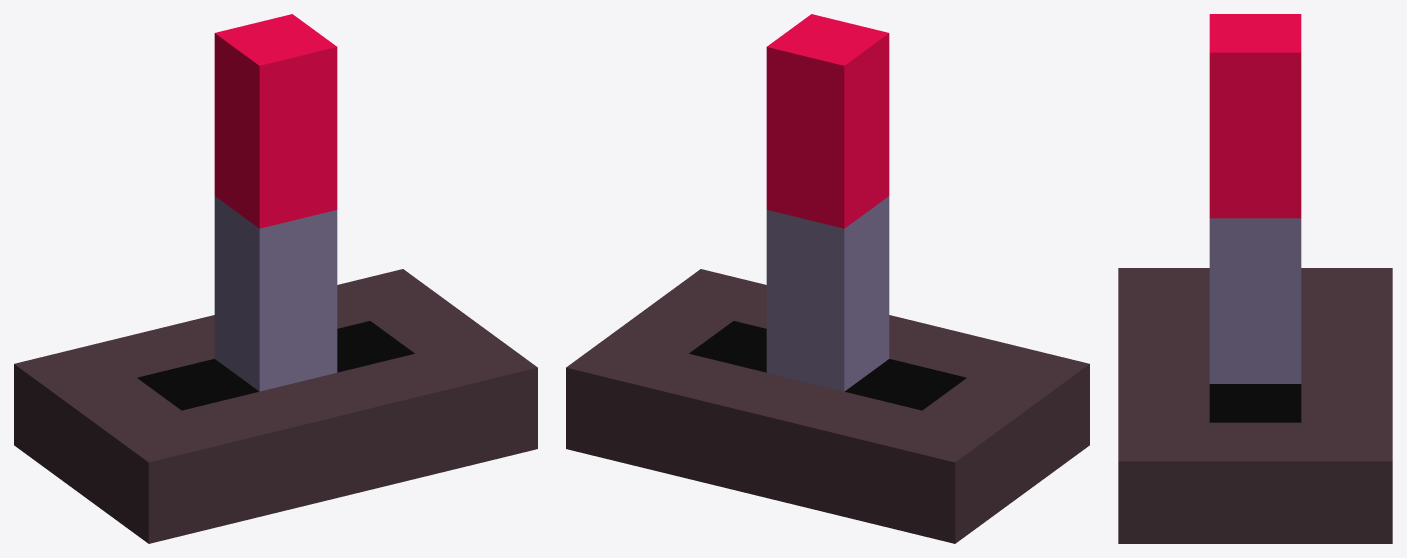
File: lever_b_b_red_off.obj
The picture shows the model from 3 angles, left to right: view 1: azimuth 30°, elevation 25°; view 2: azimuth 150°, elevation 25°; view 3: azimuth 270°, elevation 25°; orthographic projection.
Bounding box in the file's own units: 0.5 × 0.5 × 0.3.
1 material, 1 textured.
